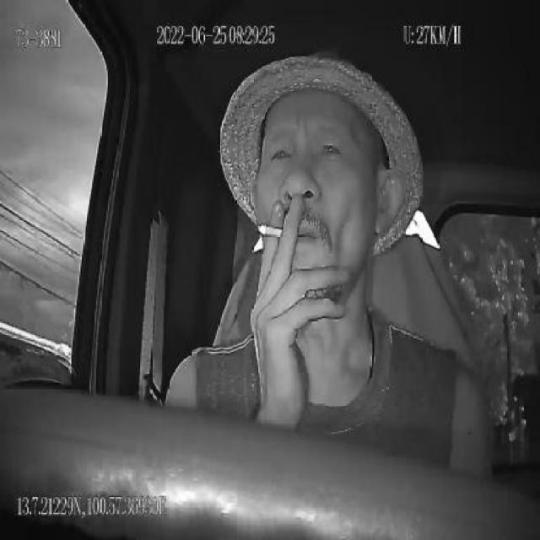smoking: (257, 218, 285, 239)
